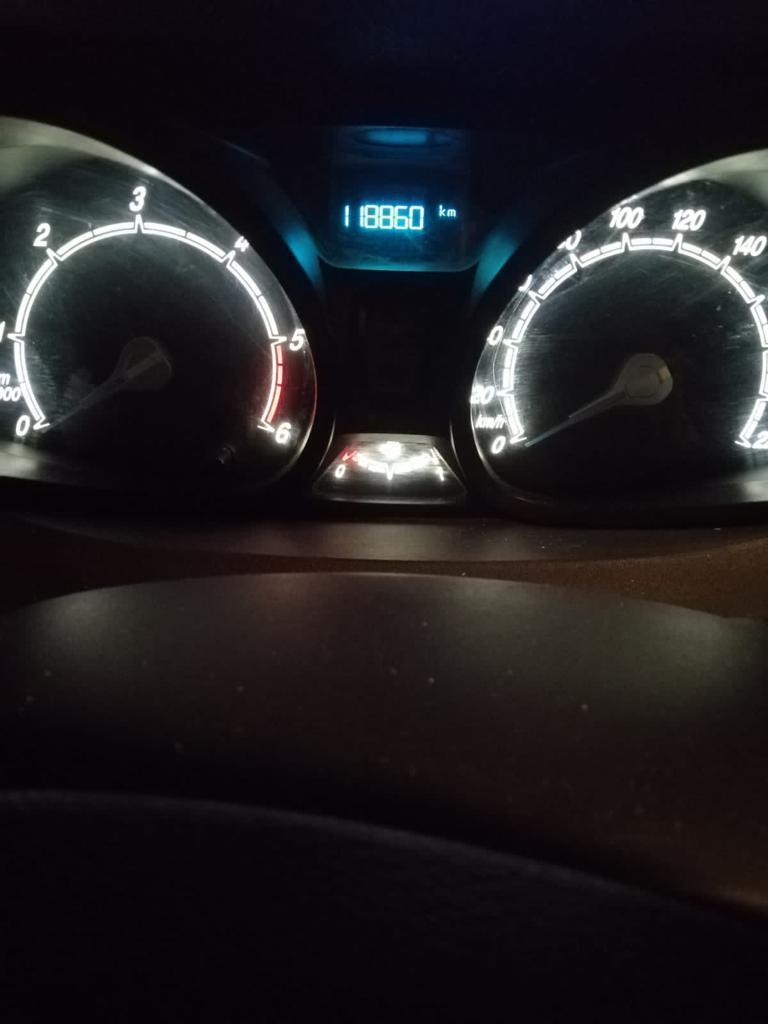0: (408, 204, 424, 230)
1: (343, 203, 350, 228), (358, 204, 364, 227)
6: (394, 205, 408, 229)
8: (364, 204, 379, 228), (379, 204, 393, 228)
X: (438, 203, 446, 216), (446, 208, 456, 217)
odometer: (328, 175, 465, 256)
